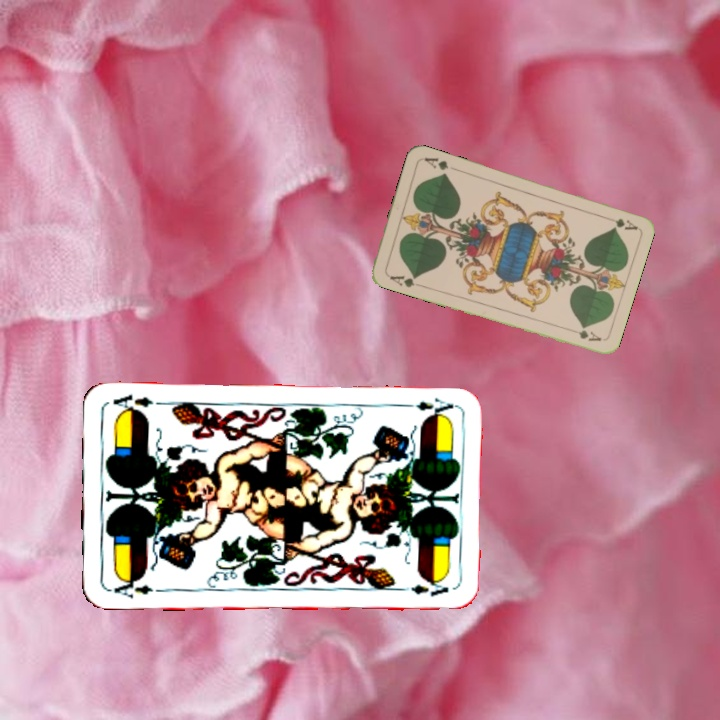EA: (105, 574, 164, 601), (398, 394, 457, 420)
GA: (384, 270, 424, 290), (611, 214, 640, 233)
